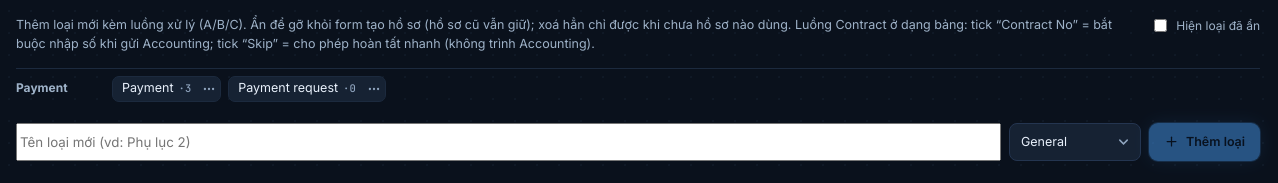
Scenario: AdminDocTypes › hides inactive types until "show hidden" is ticked
Check: the button named "Thao tác cho Payment" is shown, box [196, 78, 216, 98]
Check: the text "Advance request" is not shown
Click the checkbox labelled "Hiện loại đã ẩn": (1161, 26) [1154, 19, 1167, 32]
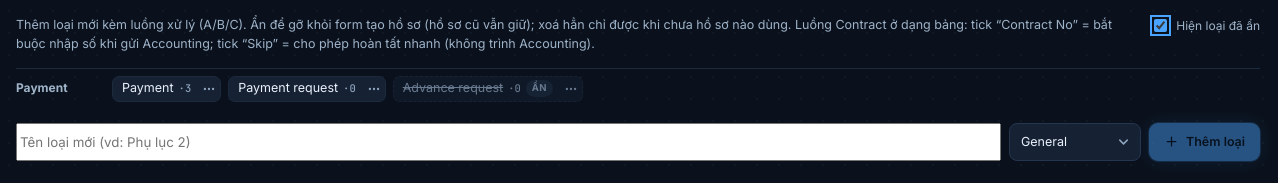
Check: the text "Advance request" is shown, box [403, 79, 503, 98]
Check: the text "ẩn" is shown, box [526, 80, 553, 97]
